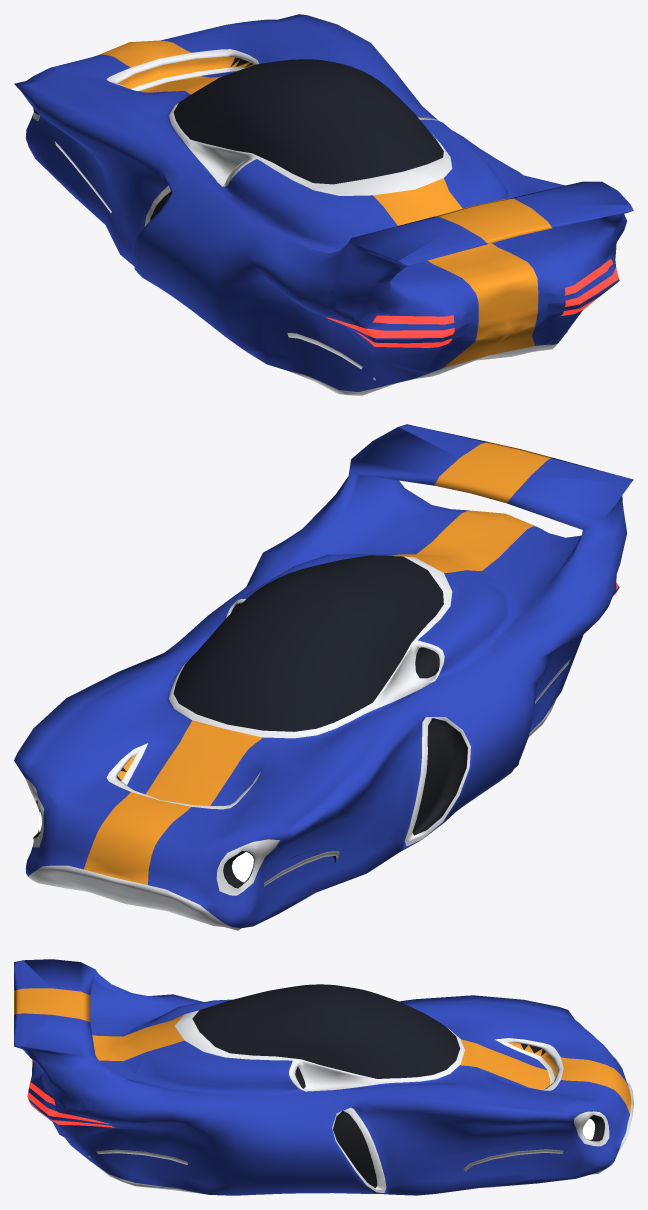
The model's file is r2-wishbone.glb.
The picture shows the model from 3 angles, top to bottom: view 1: azimuth 30°, elevation 25°; view 2: azimuth 150°, elevation 25°; view 3: azimuth 270°, elevation 25°; orthographic projection. The views are drawn at different scales.
Visible parts, largest first — view 1: Body.001, Canopy, Sockets; view 2: Body.001, Canopy; view 3: Body.001, Canopy, Sockets.
Part boxes in pixels (x1=…): Body.001: x1=14, y1=14, x2=633, y2=395; Canopy: x1=173, y1=59, x2=443, y2=184; Sockets: x1=55, y1=141, x2=568, y2=380; Body.001: x1=14, y1=424, x2=633, y2=930; Canopy: x1=173, y1=555, x2=443, y2=731; Body.001: x1=14, y1=959, x2=633, y2=1195; Canopy: x1=192, y1=984, x2=460, y2=1078; Sockets: x1=88, y1=1147, x2=563, y2=1171.
Size of the model in its own units: 1.89 by 1.13 by 4.01.
